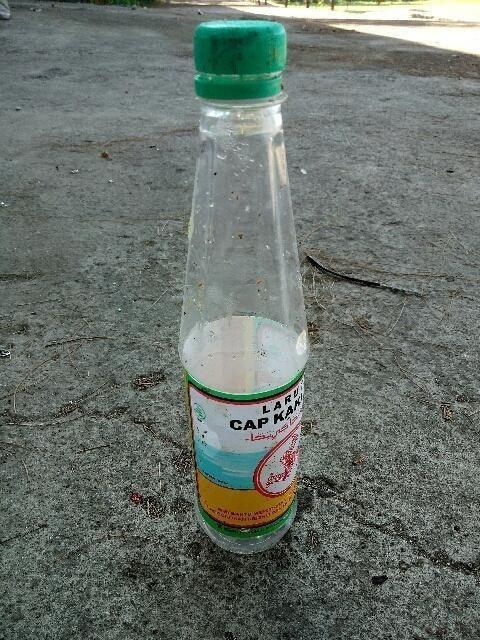bottle-plastic: (173, 14, 312, 559)
